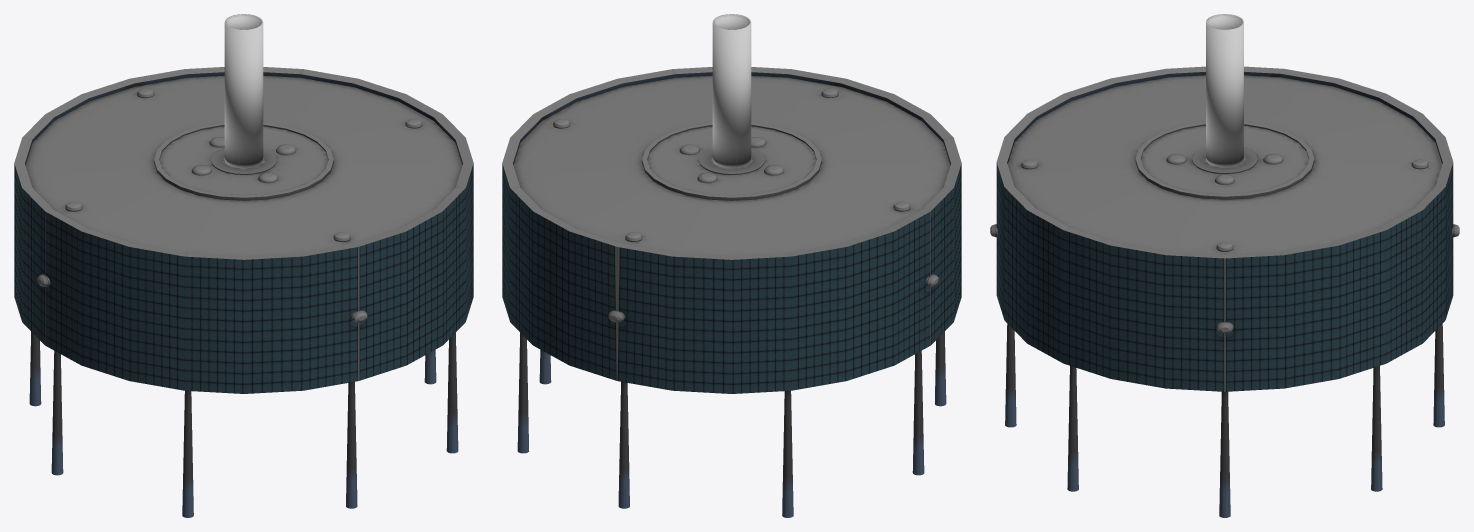
Rendered from Intelsat II.fbx.
3 views of the same model, side by side, from view 1: azimuth 30°, elevation 25°; view 2: azimuth 150°, elevation 25°; view 3: azimuth 270°, elevation 25° (orthographic).
Parts seen in each view (by area): view 1: Body, Antenna, Cylinder.009, Cylinder.004, Cylinder.006, Cylinder.008, Cylinder.013; view 2: Body, Antenna, Cylinder.013, Cylinder.002, Cylinder.006, Cylinder.007, Cylinder.009; view 3: Body, Antenna, Cylinder.005, Cylinder.008, Cylinder.007, Cylinder.004, Cylinder.002.
Part boxes in pixels (x1=…): Body: x1=14, y1=67, x2=473, y2=393; Antenna: x1=224, y1=14, x2=263, y2=168; Cylinder.009: x1=182, y1=390, x2=193, y2=517; Cylinder.004: x1=346, y1=381, x2=357, y2=508; Cylinder.006: x1=51, y1=351, x2=63, y2=475; Cylinder.008: x1=446, y1=332, x2=458, y2=453; Cylinder.013: x1=29, y1=331, x2=41, y2=406; Body: x1=502, y1=67, x2=961, y2=393; Antenna: x1=712, y1=14, x2=751, y2=168; Cylinder.013: x1=782, y1=390, x2=793, y2=517; Cylinder.002: x1=618, y1=382, x2=629, y2=508; Cylinder.006: x1=912, y1=351, x2=924, y2=475; Cylinder.007: x1=517, y1=332, x2=528, y2=453; Cylinder.009: x1=935, y1=331, x2=946, y2=406; Body: x1=996, y1=66, x2=1453, y2=391; Antenna: x1=1206, y1=14, x2=1243, y2=167; Cylinder.005: x1=1219, y1=391, x2=1230, y2=517; Cylinder.008: x1=1067, y1=366, x2=1078, y2=491; Cylinder.007: x1=1371, y1=366, x2=1382, y2=491; Cylinder.004: x1=1005, y1=324, x2=1016, y2=427; Cylinder.002: x1=1433, y1=324, x2=1444, y2=427.
Size of the model in its own units: 89.97 by 85.24 by 89.97.
Materials: 1 (1 with a texture image).
